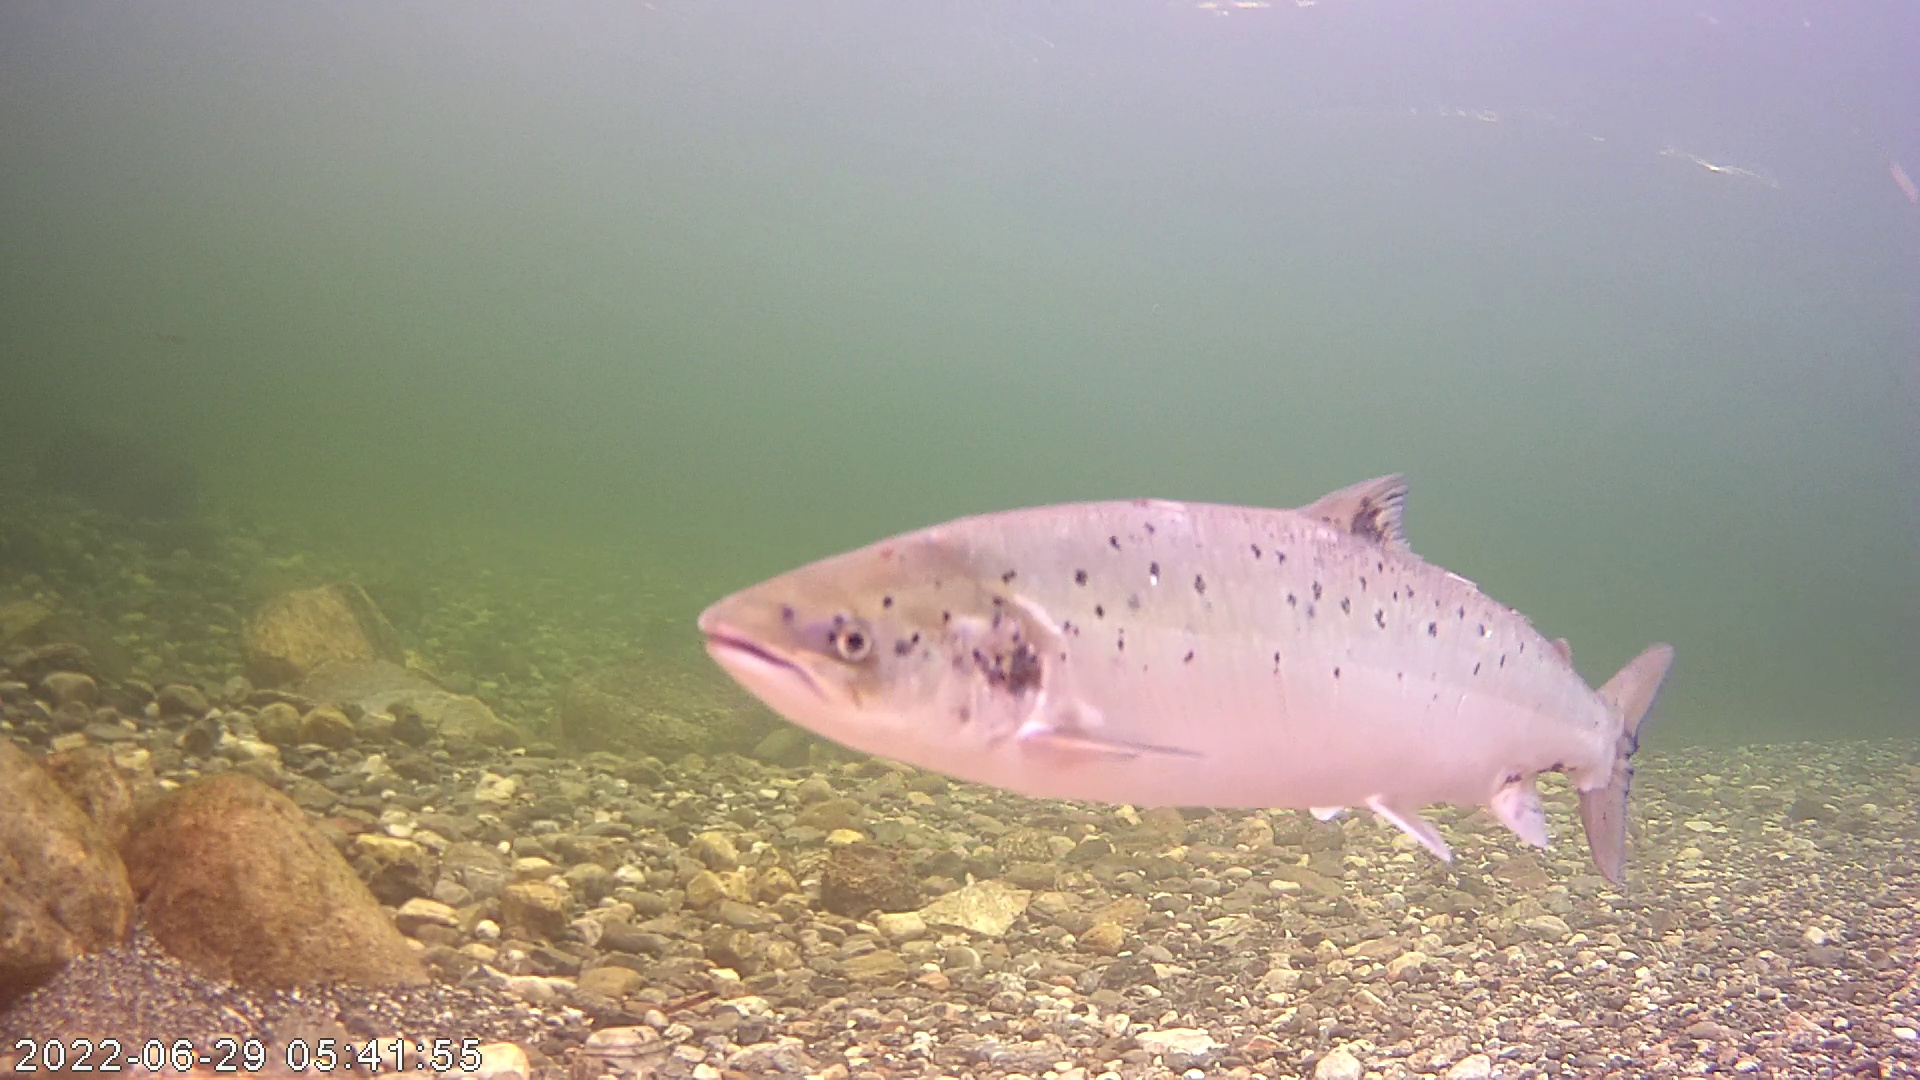salmon: (698, 328, 1673, 829)
